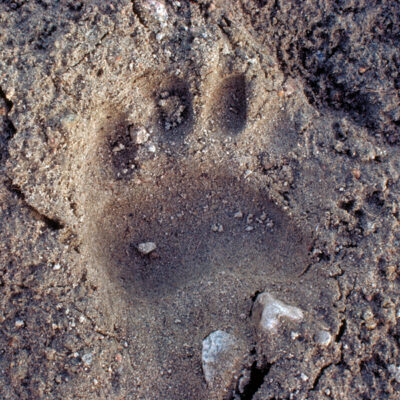bear: (61, 60, 303, 295)
